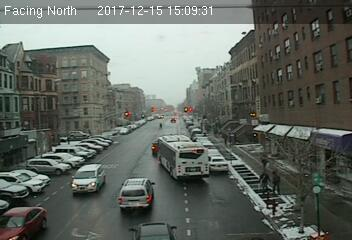bus: (157, 135, 209, 183)
car: (1, 205, 50, 240), (70, 163, 106, 196), (119, 179, 157, 209), (129, 221, 178, 240), (209, 157, 229, 173)
pedestrian: (270, 169, 282, 197), (259, 170, 268, 198)
